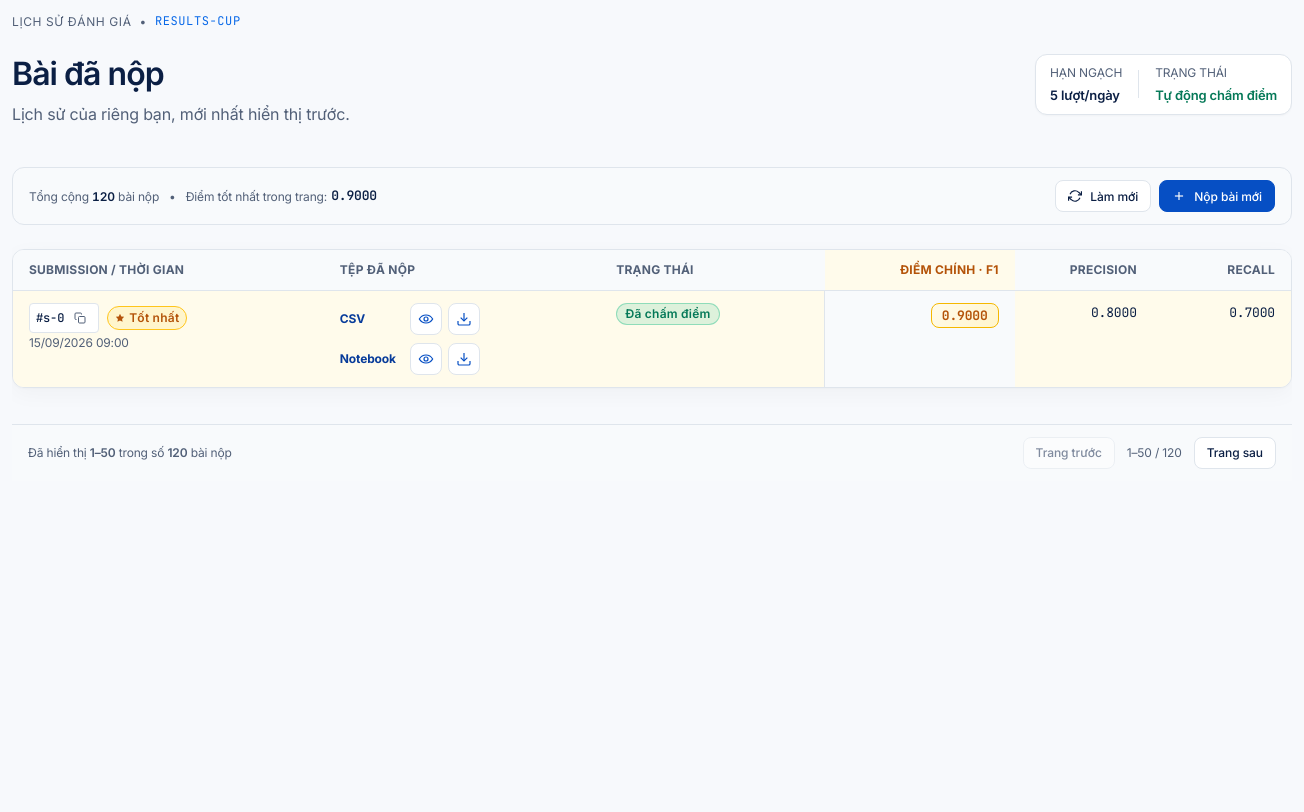
Scenario: lỗi khi sang trang hai giữ nguyên trang một và cho thử lại
Expected: the text "#s-0" is shown, [29,303,99,333]
Click the button "Trang sau" at (1235,453), box [1194,437,1276,469]
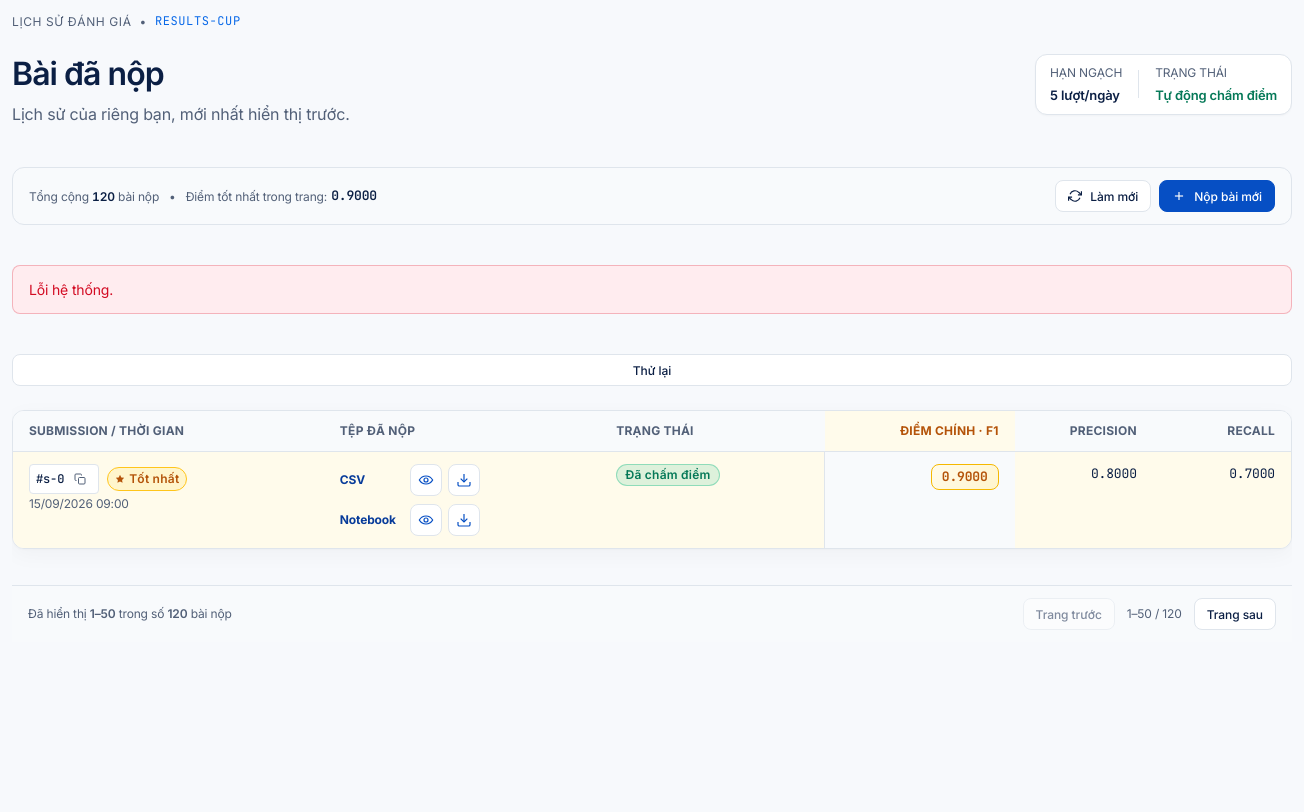
Expected: the text "#s-0" is shown, [29,464,99,494]
Now the message "Lỗi hệ thống." is shown, box [12,265,1292,314]
Now the button "Thử lại" is shown, box [12,354,1292,386]
